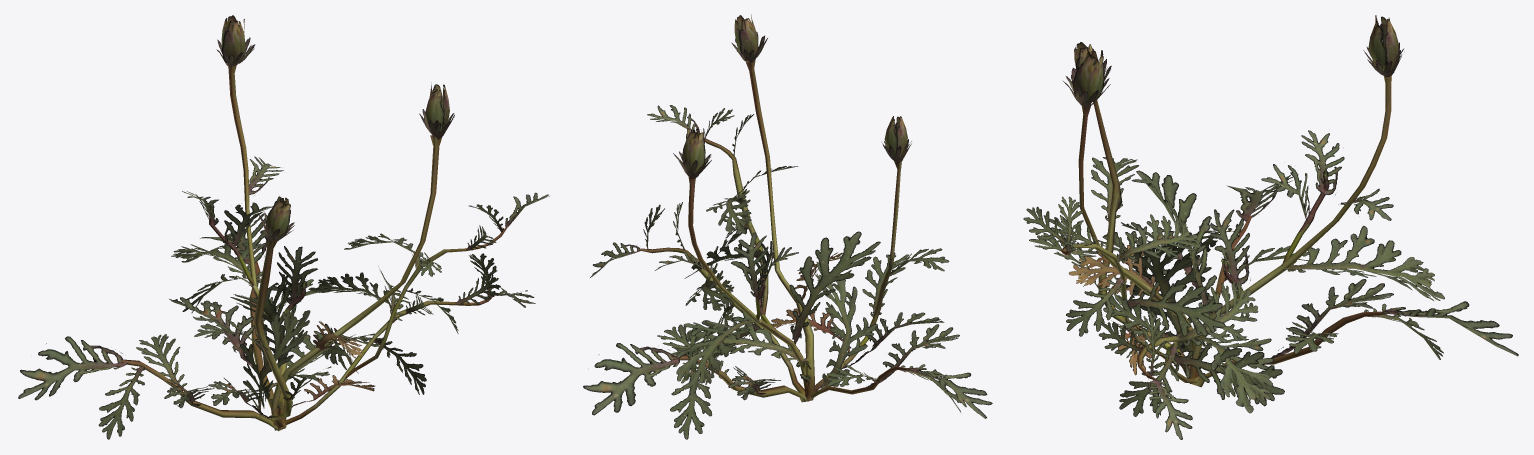
File: OrangeFlower_D.fbx
The picture shows the model from 3 angles, left to right: view 1: azimuth 30°, elevation 25°; view 2: azimuth 150°, elevation 25°; view 3: azimuth 270°, elevation 25°; orthographic projection. The views are drawn at different scales.
Visible parts, largest first — view 1: OrangeFlower_D; view 2: OrangeFlower_D; view 3: OrangeFlower_D.
Boxes of the visible parts, <box> form: OrangeFlower_D: <box>18,15,549,439</box>; OrangeFlower_D: <box>583,14,992,439</box>; OrangeFlower_D: <box>1023,15,1518,439</box>.
Bounding box in the file's own units: 0.2239 × 0.16 × 0.1812.
Materials: 1 (1 with a texture image).
